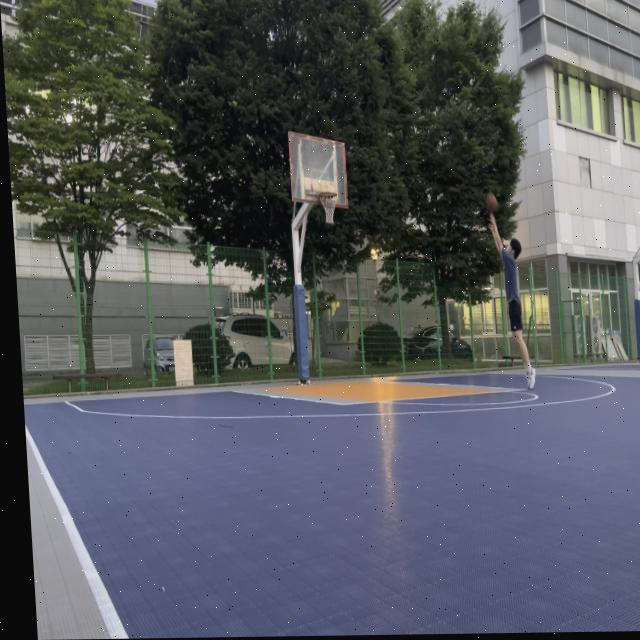basketball: (485, 192, 499, 214)
hoop: (319, 191, 339, 225)
